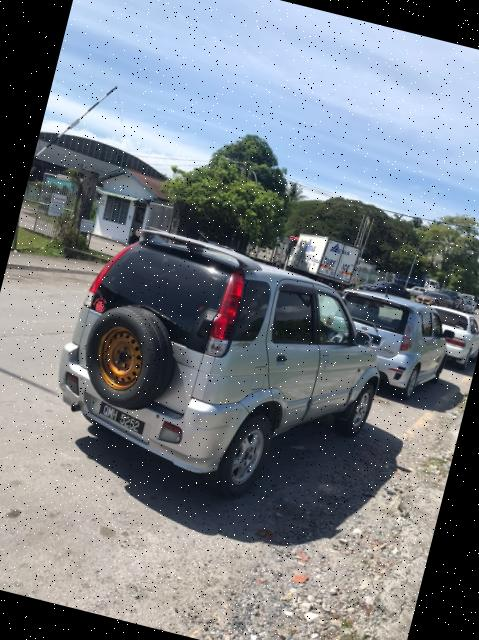License_Plate: (96, 402, 148, 437)
car: (38, 204, 409, 533)
